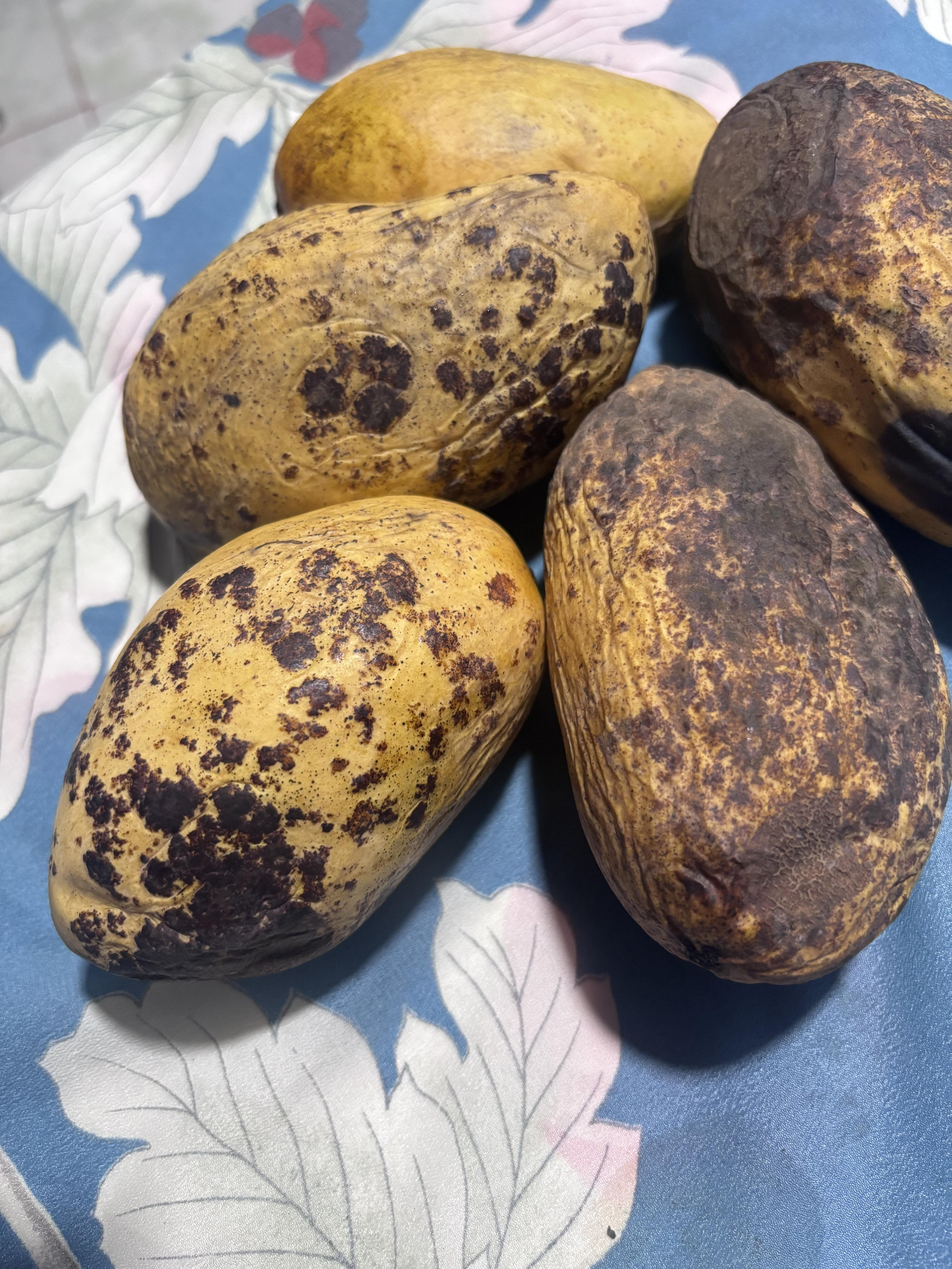mango: (545, 366, 952, 984), (49, 497, 545, 978)
occluded: (123, 172, 654, 548), (685, 62, 952, 543), (275, 48, 716, 242)
